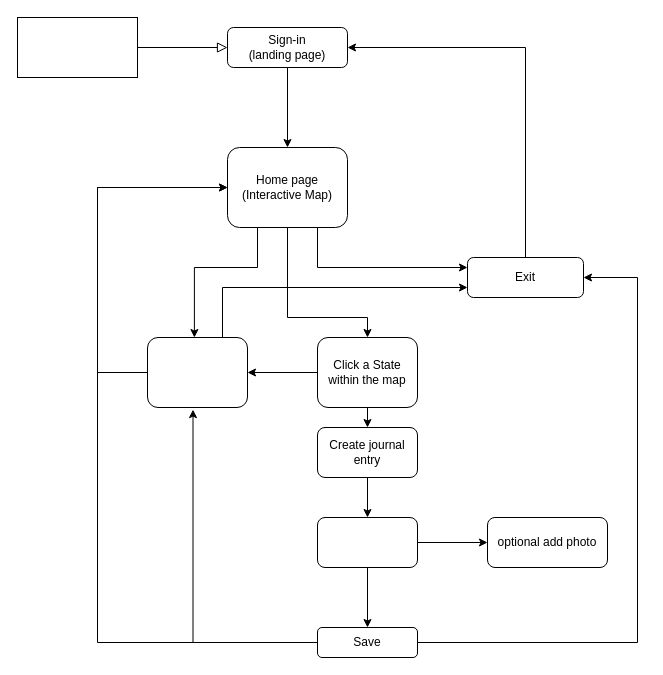
This 663x675 diagram has some shape labels left out. Each missing label, with the centre of its shape:
"Accessing previous Journal entries" belongs at point (197, 372).
"Title & paragraph of travel experience" belongs at point (367, 542).
"User" belongs at point (77, 47).
